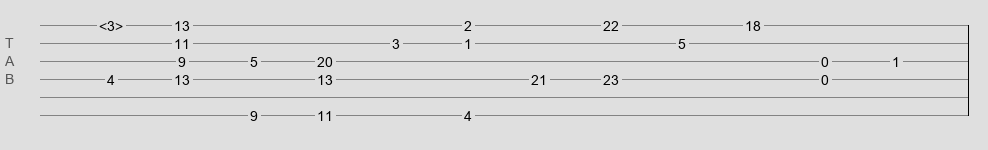0: (821, 72, 829, 82), (821, 54, 829, 64)
1: (464, 36, 472, 46), (892, 54, 900, 64)
11: (174, 36, 190, 46), (317, 108, 333, 118)
13: (174, 18, 190, 28), (174, 72, 190, 82), (317, 72, 333, 82)
18: (745, 18, 761, 28)
2: (464, 18, 472, 28)
20: (317, 54, 333, 64)
21: (531, 72, 547, 82)
22: (603, 18, 619, 28)
23: (603, 72, 619, 82)
3: (392, 36, 400, 46)
4: (107, 72, 115, 82), (464, 108, 472, 118)
5: (250, 54, 258, 64), (678, 36, 686, 46)
9: (178, 54, 186, 64), (250, 108, 258, 118)
harmonic: (99, 18, 123, 28)
